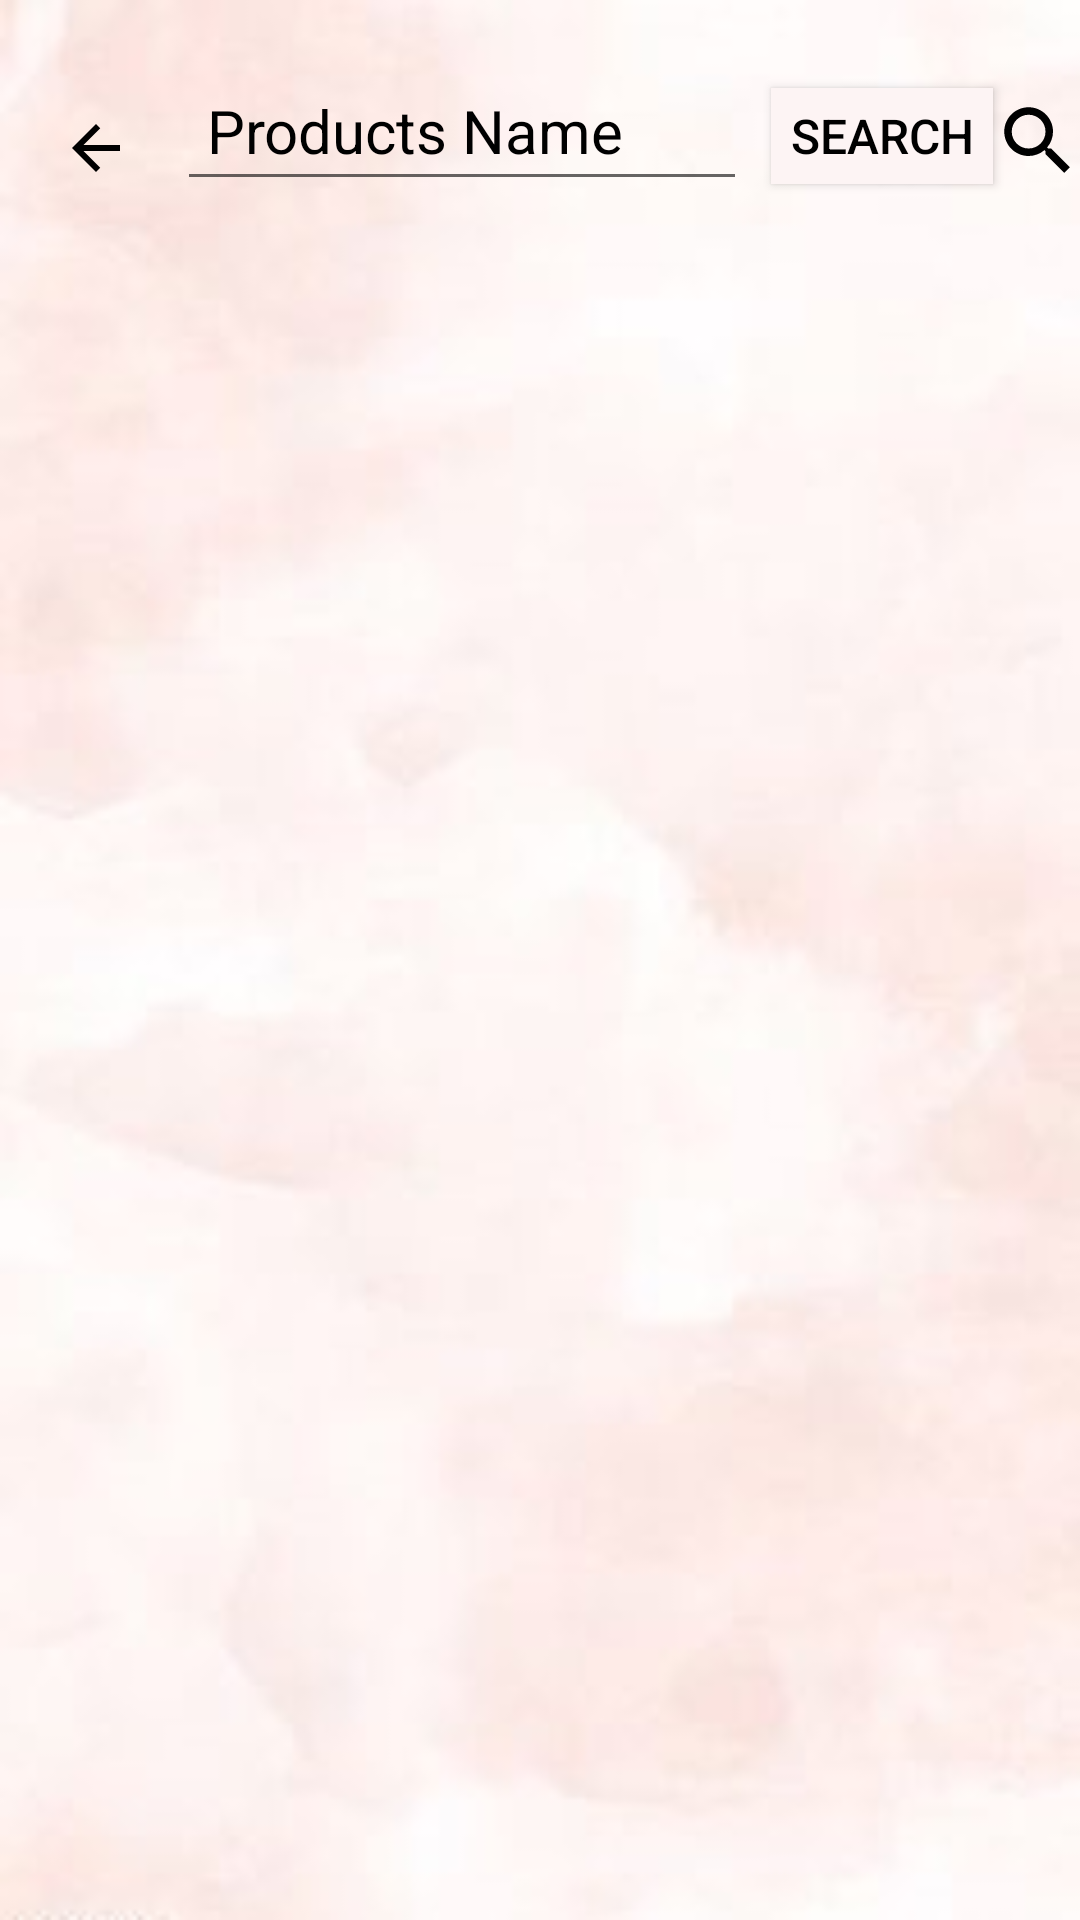

Locate icon controls on the screen. Image size 1080px×1920px, boxes as (x1, y1, x2, y2).
back: (72, 124, 120, 172)
